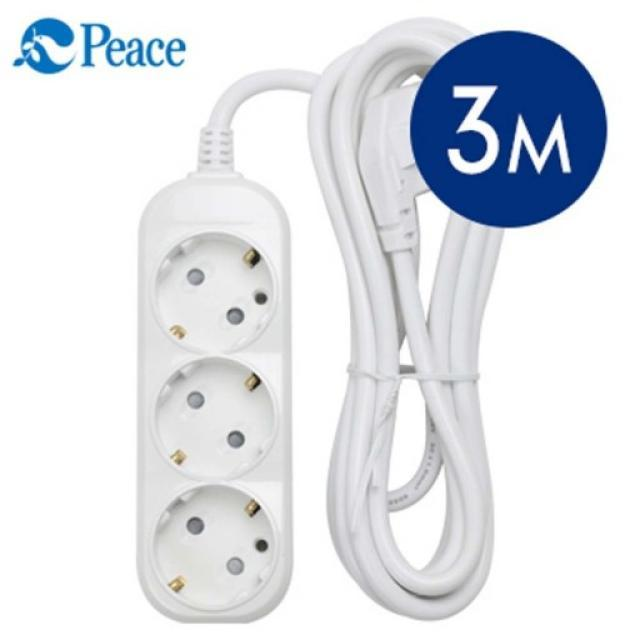typeb: (101, 147, 327, 637)
